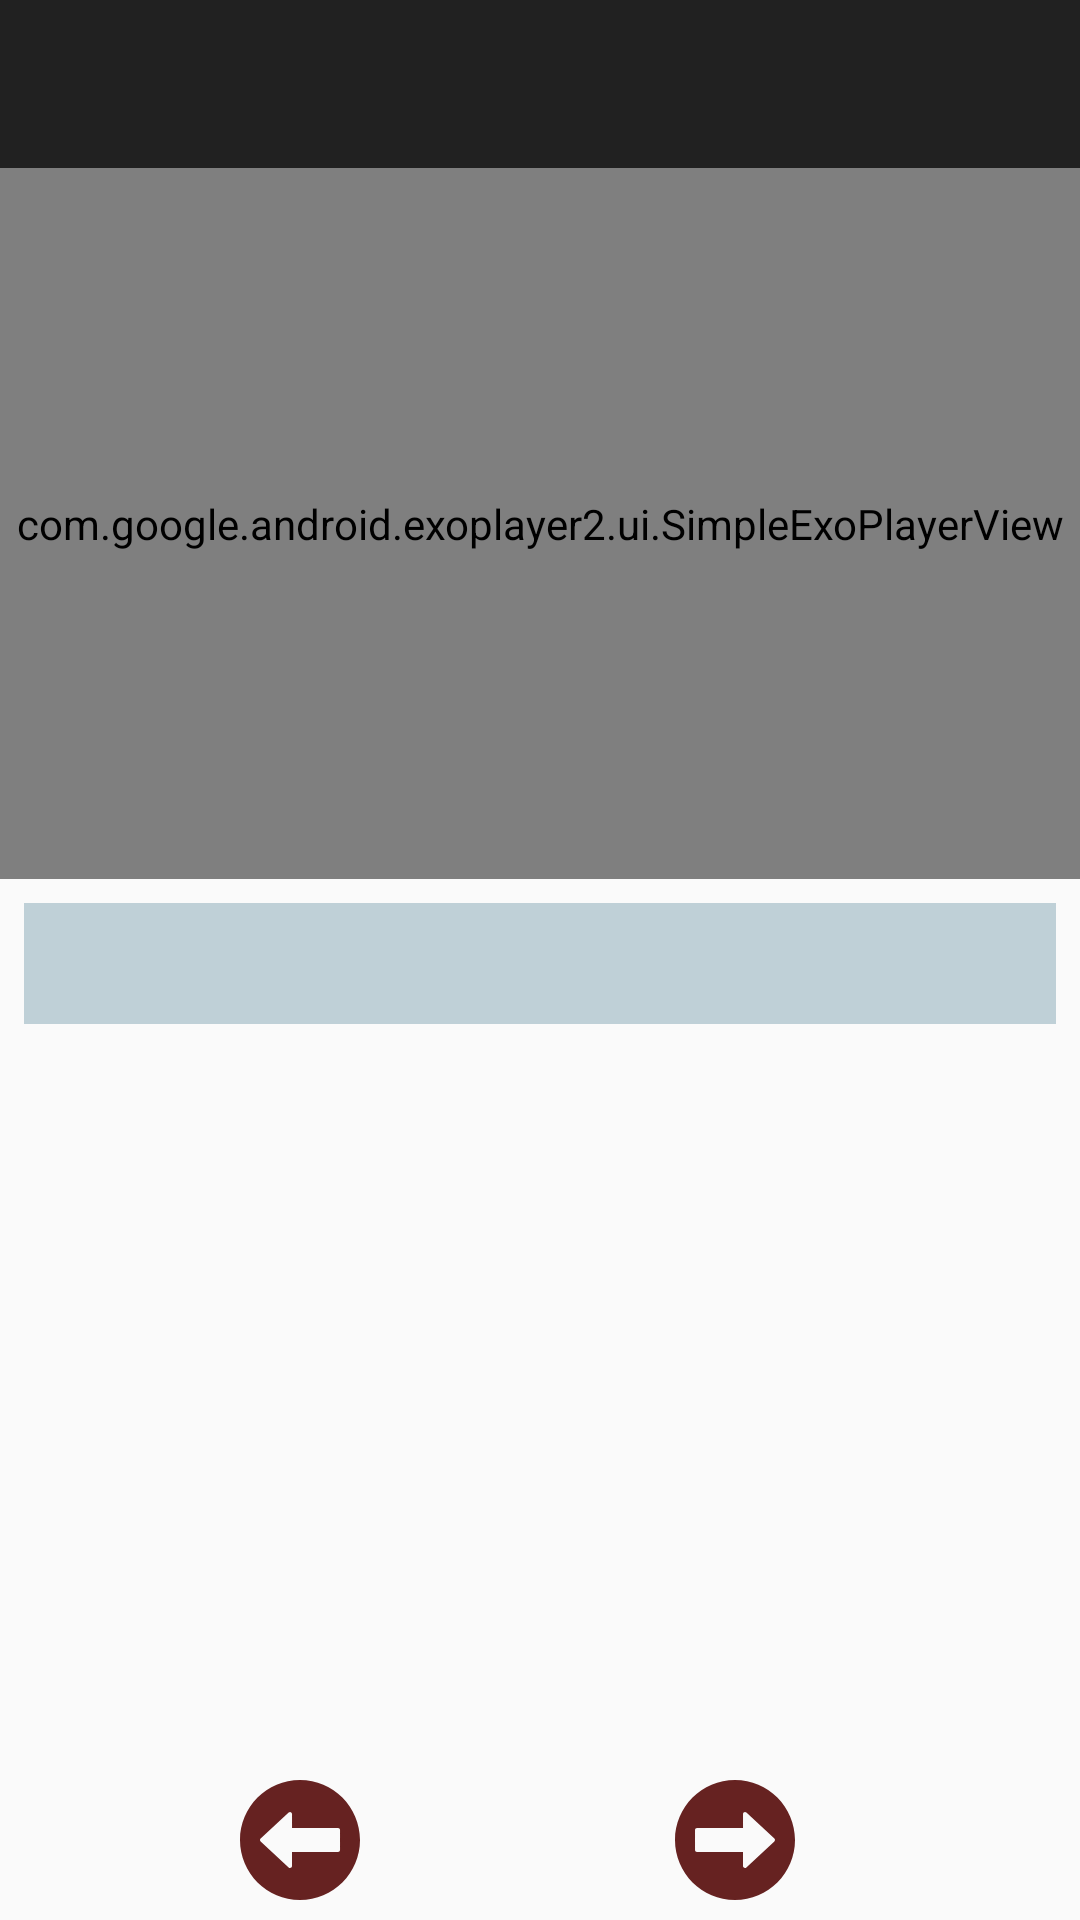

Named icons in this screenshot (1080 × 1920) and their centers, point (x, y):
next: point (735, 1840)
previous: point (300, 1840)
